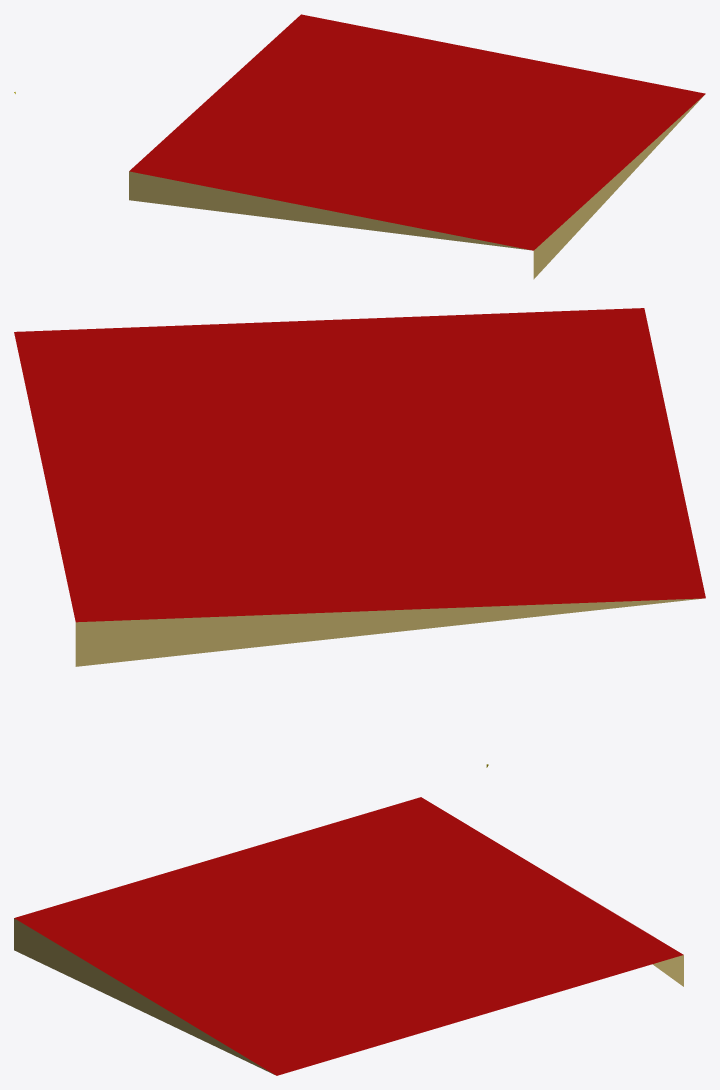
The picture shows the model from 3 angles, top to bottom: view 1: azimuth 30°, elevation 25°; view 2: azimuth 150°, elevation 25°; view 3: azimuth 270°, elevation 25°; orthographic projection. The views are drawn at different scales.
Size of the model in its own units: 139 by 7.5 by 146.
